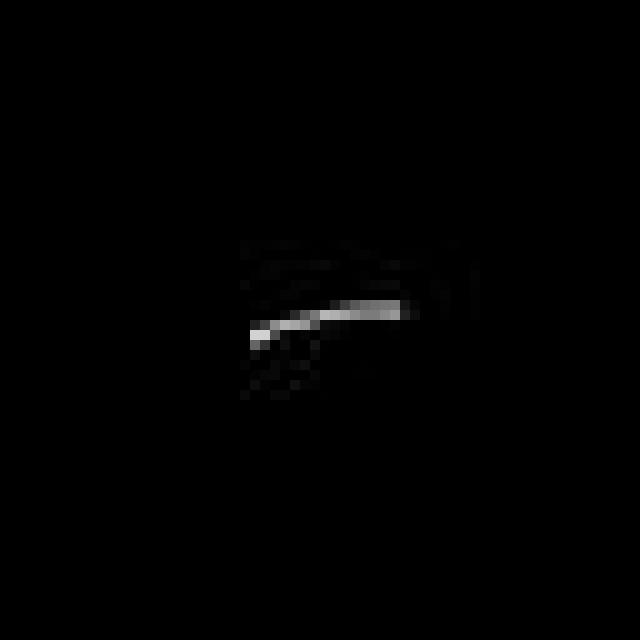1 -one-: (235, 294, 411, 353)
